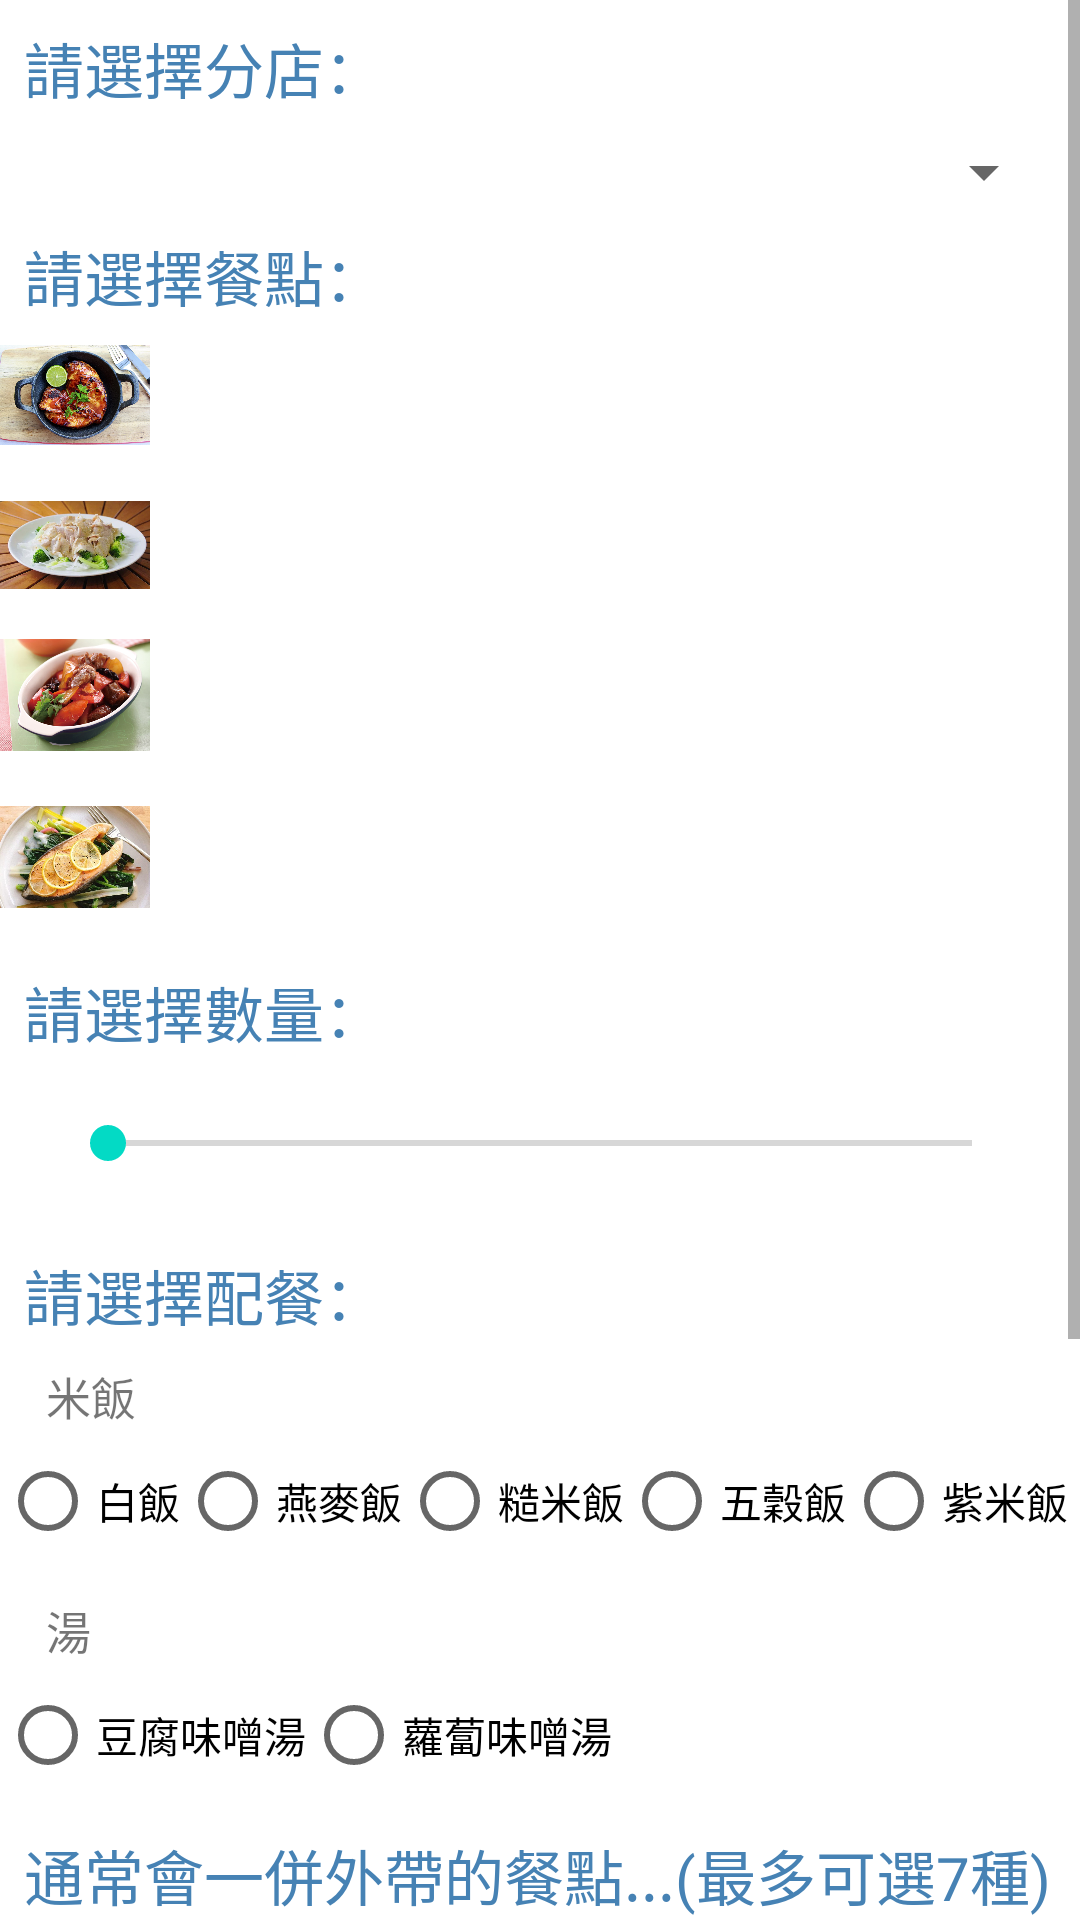

Icons on this 1080px×1920px Android screen, each with its box as (x1, y1, x2, y2):
beef: (0, 639, 150, 751)
chicken: (0, 345, 150, 445)
pork: (0, 501, 150, 589)
salmon: (0, 806, 150, 908)
